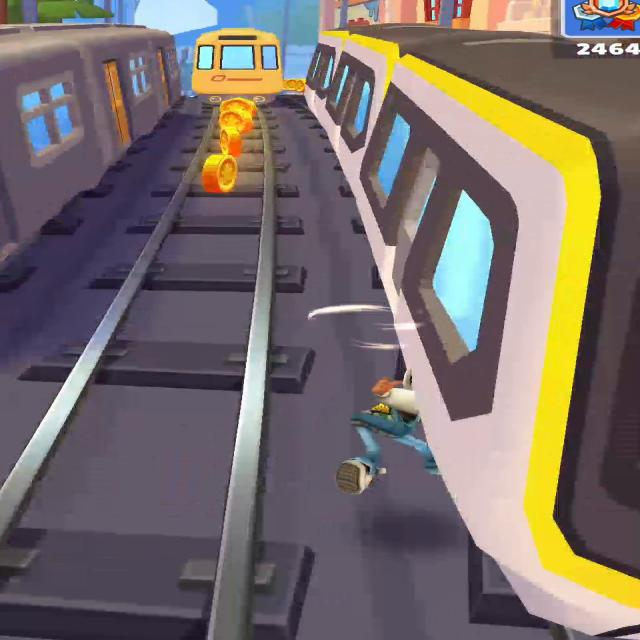train: (304, 23, 639, 640), (0, 24, 181, 290), (191, 28, 283, 101)
